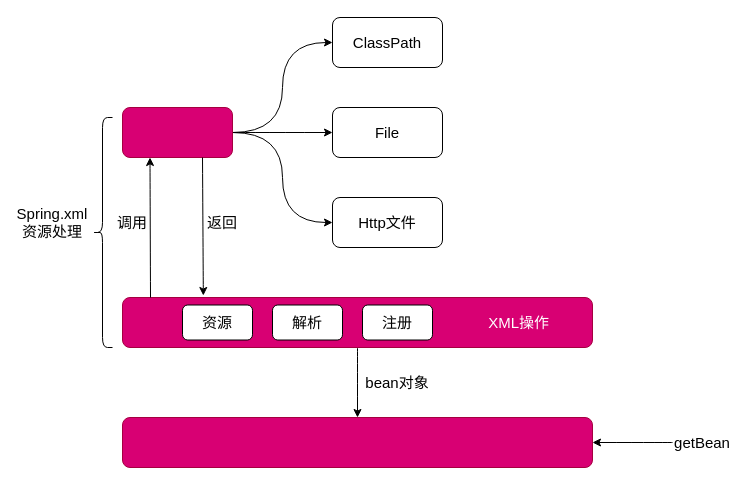
Some shapes in this 750 by 485 pixel diagram are drawn without their labels. Here are the shapes that lost their labels. From the top down, the centre of each, then its label:
point 177,132: 资源加载
point 357,442: Spring Bean容器
